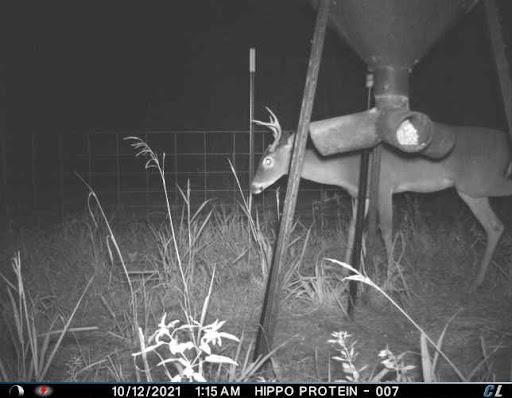Deer: (240, 100, 512, 297)
